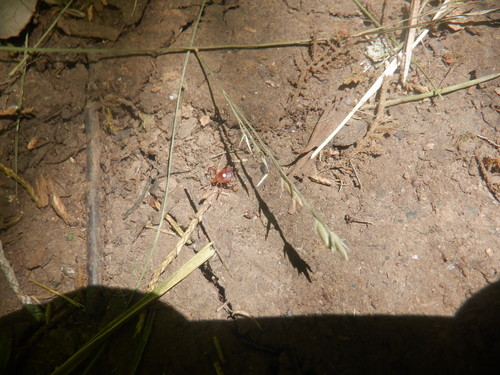dog tick: (200, 261, 226, 304)
